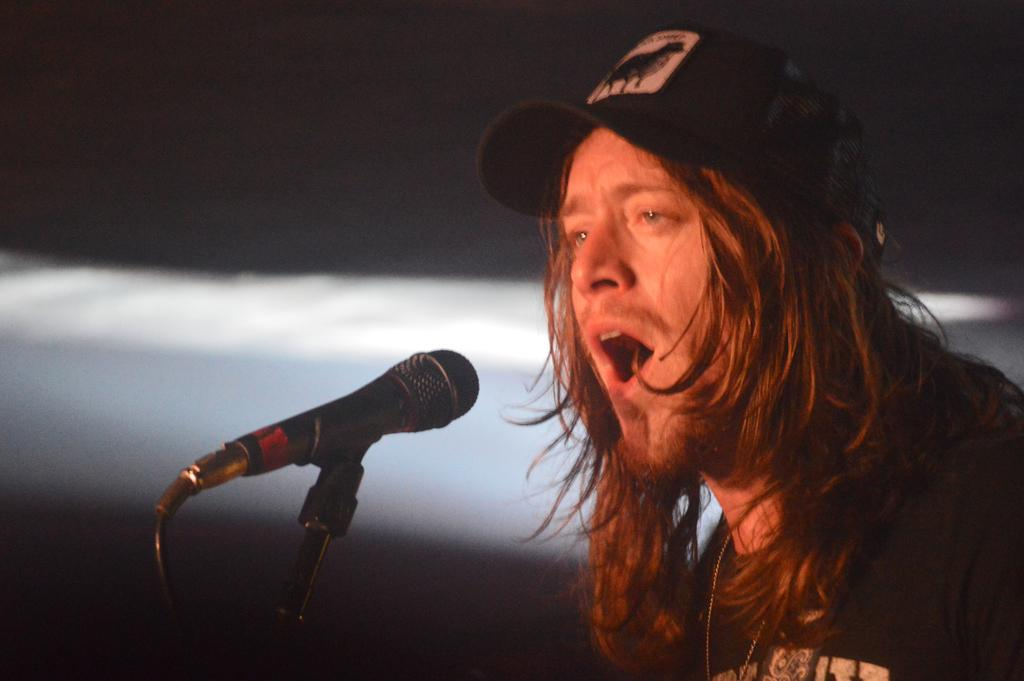Hat: (475, 20, 892, 268)
